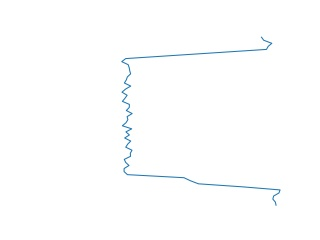distributaryChannelFill: (118, 37, 285, 206)
